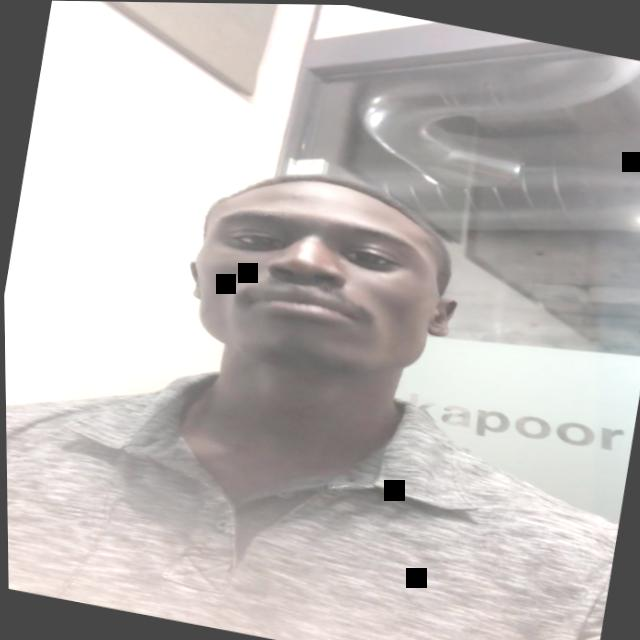NO-Mask: (183, 167, 459, 385)
